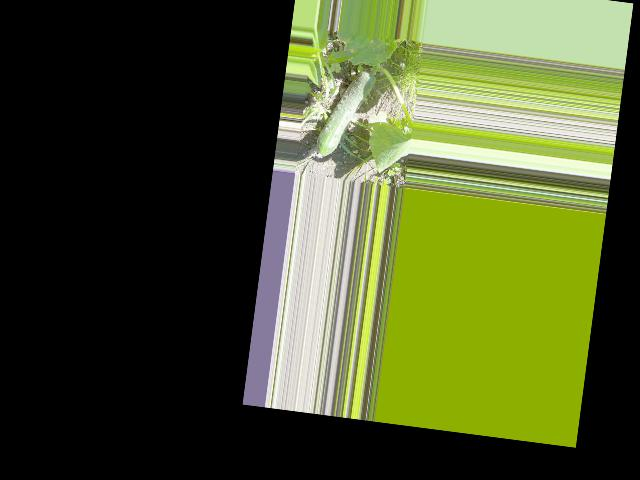cucumber: (314, 64, 376, 163)
